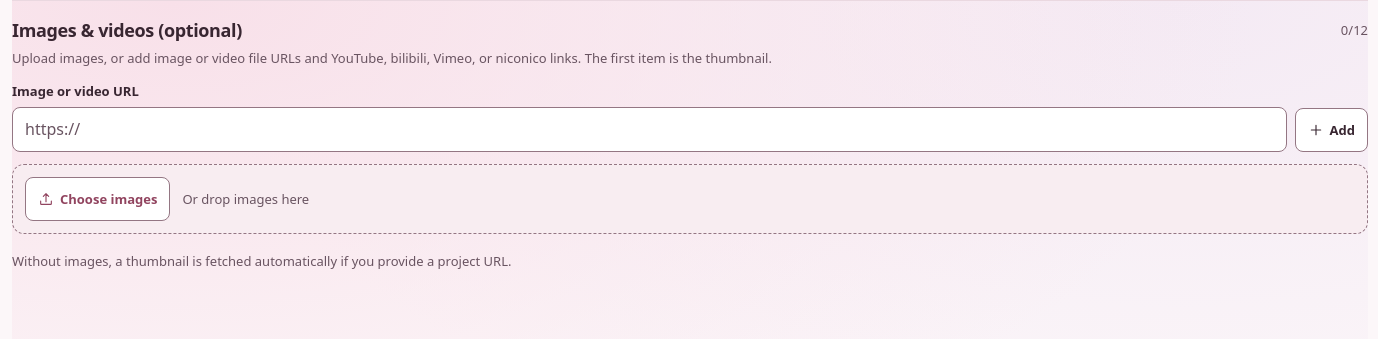
rejects HTTP URLs and links the validation alert to the input
This screenshot has width=1378, height=339.
Type "http://example.com/image.png" into the field labelled "Image or video URL" at {"x": 649, "y": 129}, box [12,107,1287,152]
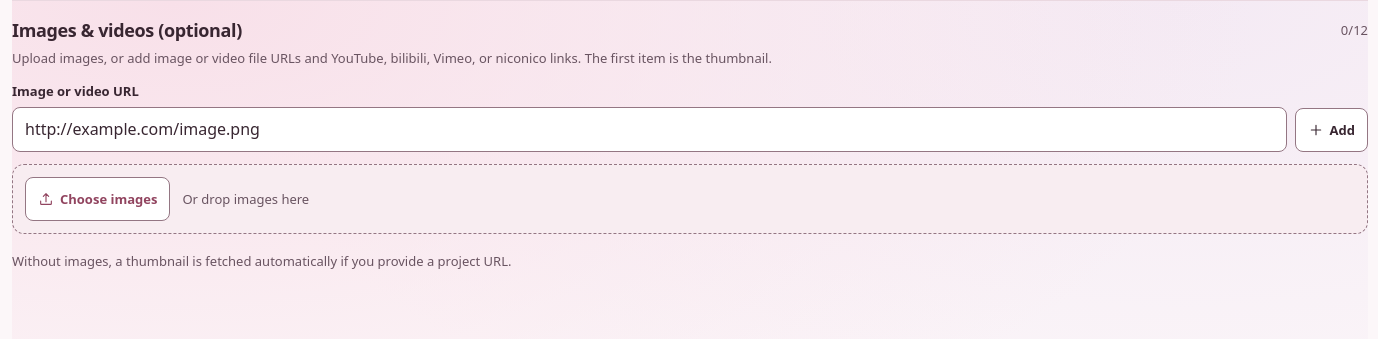
Click the button "Add" at {"x": 1331, "y": 130}, box [1295,108,1368,152]
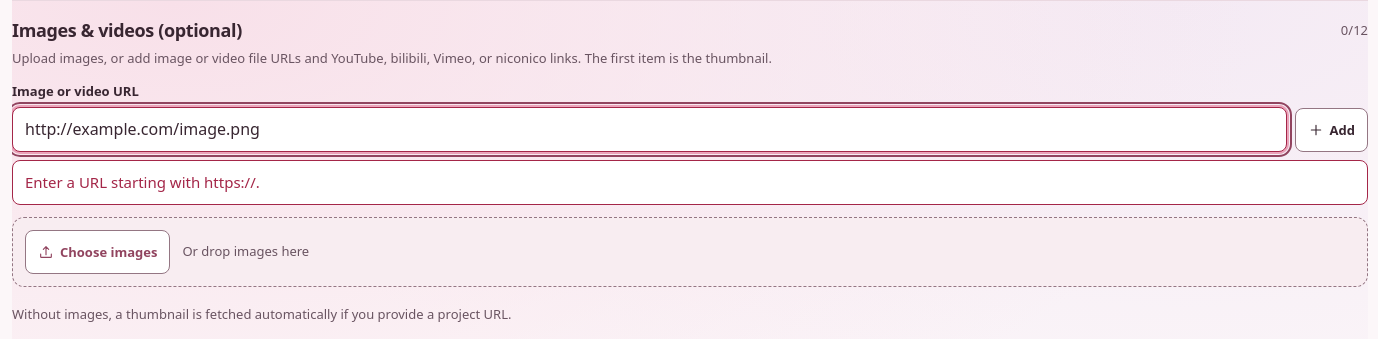
Check: the message "Enter a URL starting with https://." is shown, box [12,160,1368,205]
